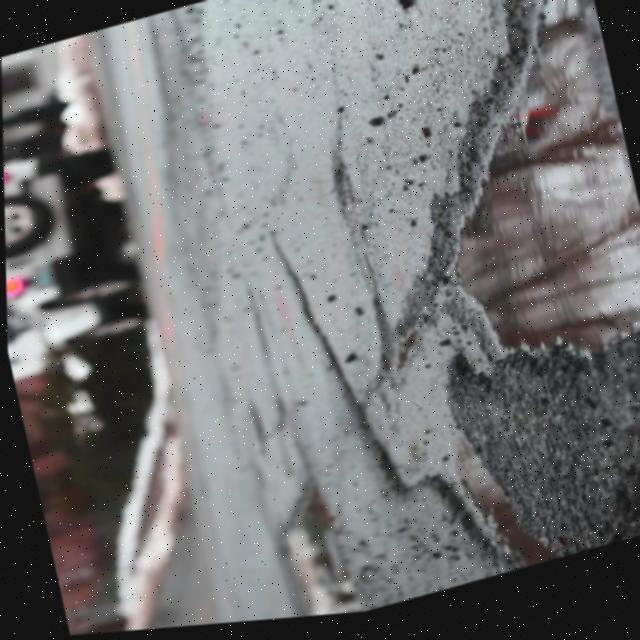pothole: (373, 0, 640, 418), (400, 416, 568, 602), (251, 474, 367, 624)
